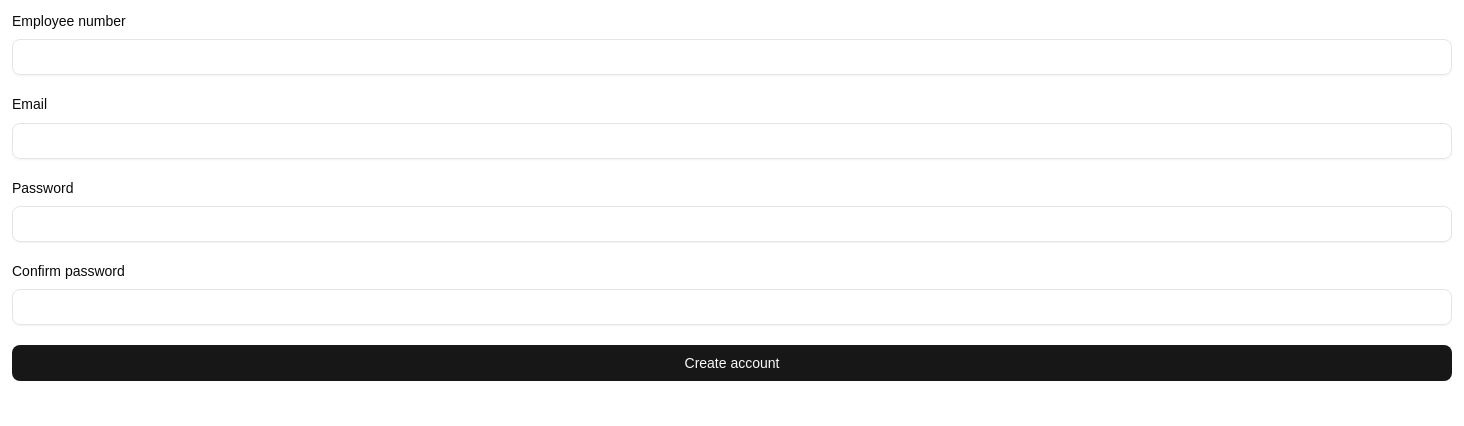
RegistrationForm › renders a 400 field-level error next to the offending field
Type "EMP001" into the field labelled "Employee number" at (732, 57), box 12,39 -> 1452,75
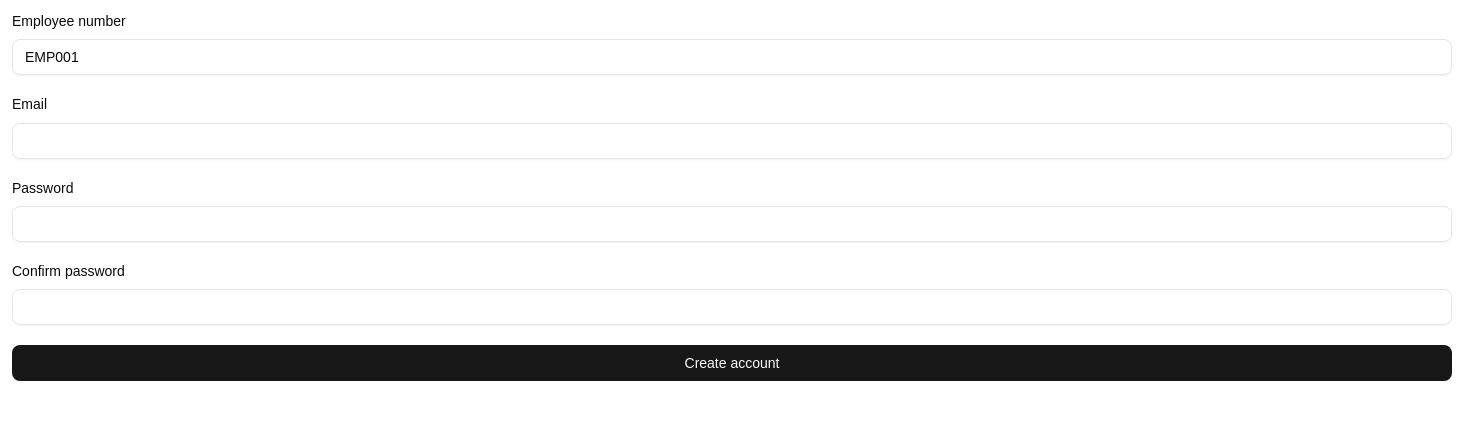
Type "a@b.com" into the field labelled "Email" at (732, 140), box 12,122 -> 1452,158
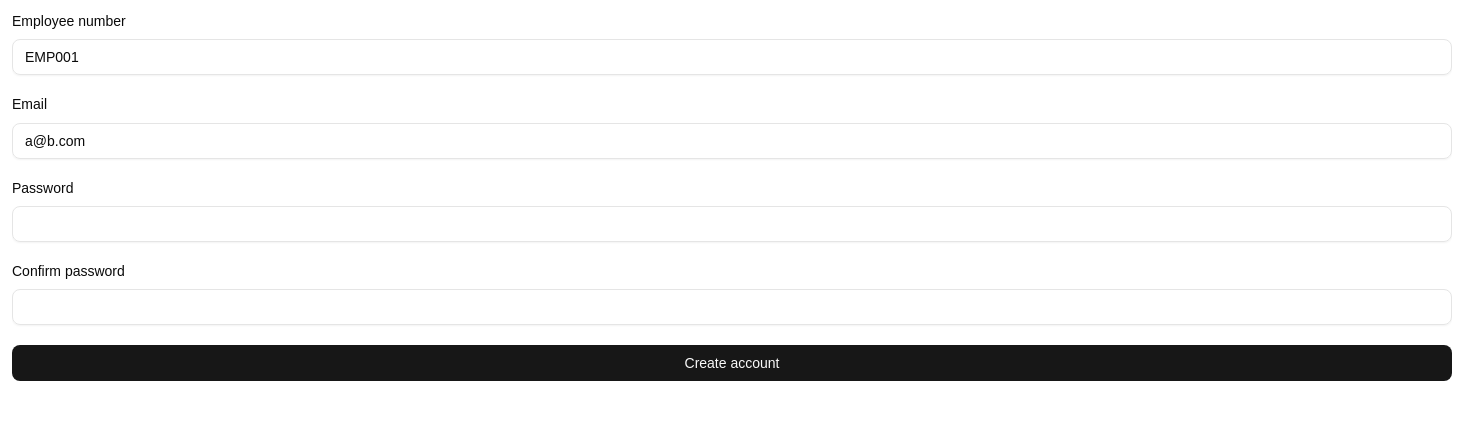
Type "password1" into the password field labelled "Password" at (732, 224), box 12,206 -> 1452,242
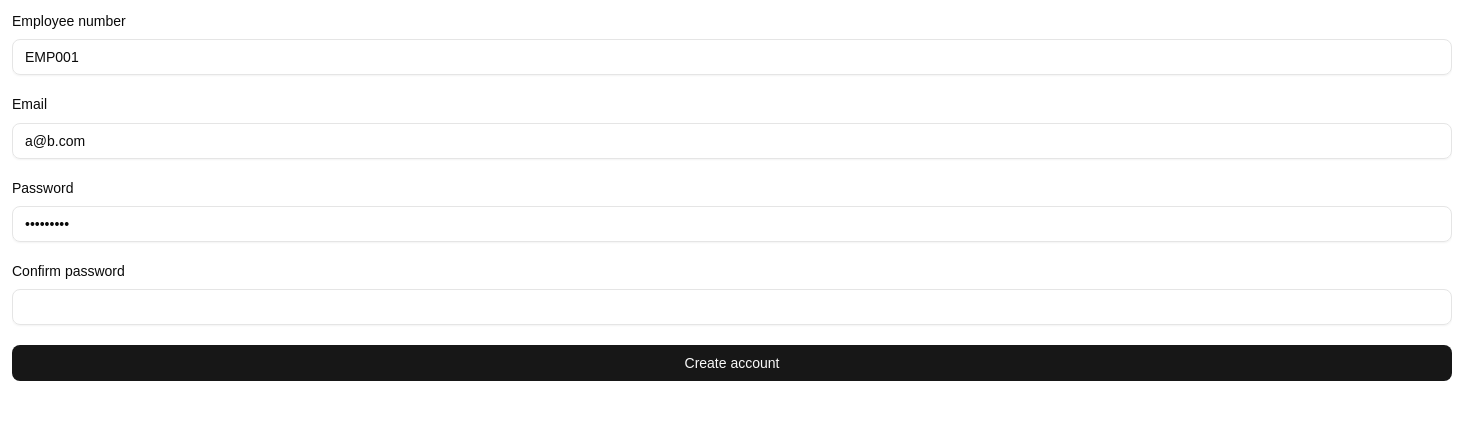
Type "password1" into the password field labelled "Confirm password" at (732, 307), box 12,289 -> 1452,325
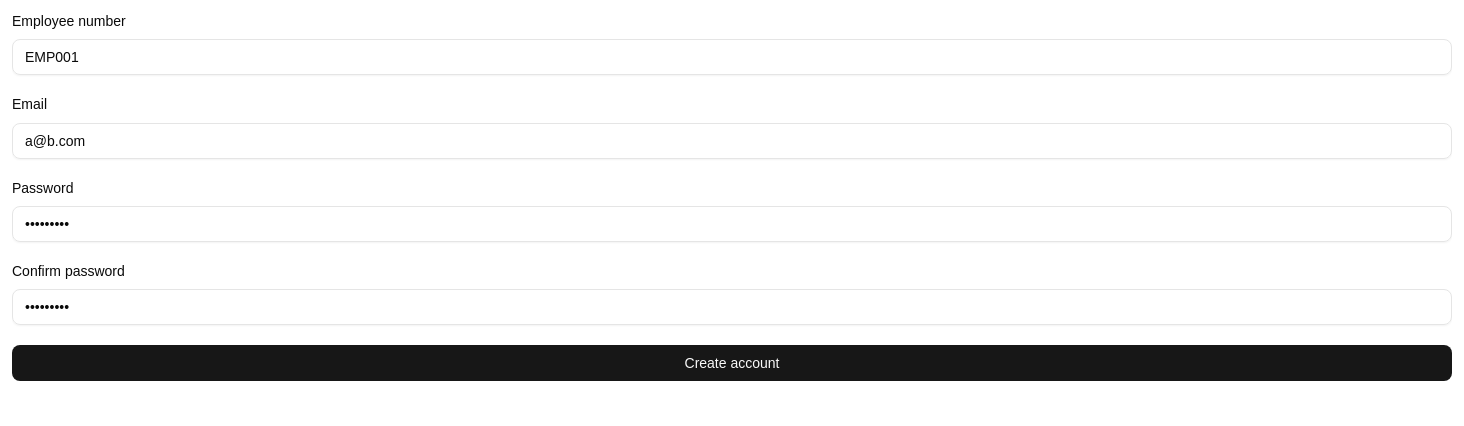
Click the button "Create account" at (732, 363), box 12,345 -> 1452,381
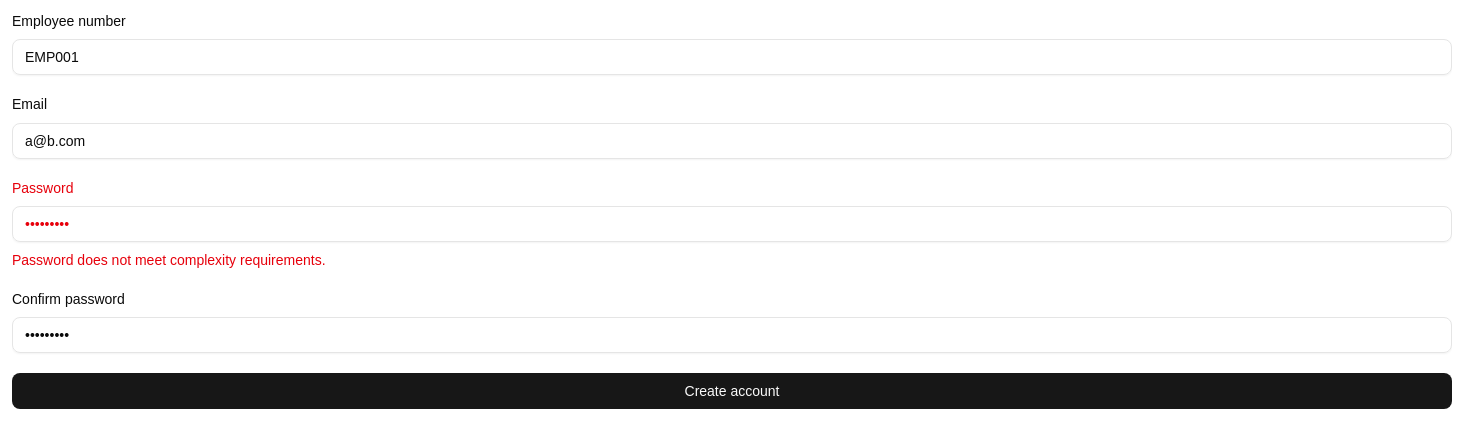
Result: the text "Password does not meet complexity requirements." is shown at 12,252 -> 326,268
